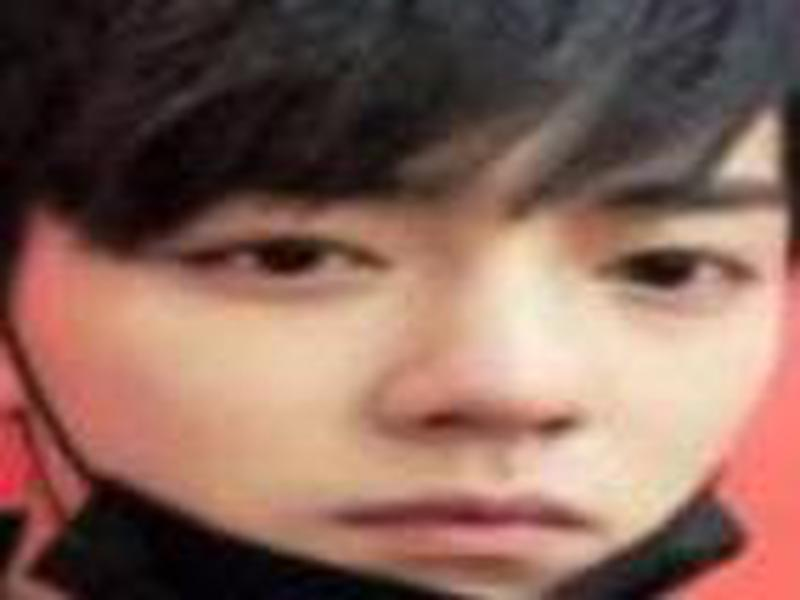without_mask: (42, 65, 776, 587)
